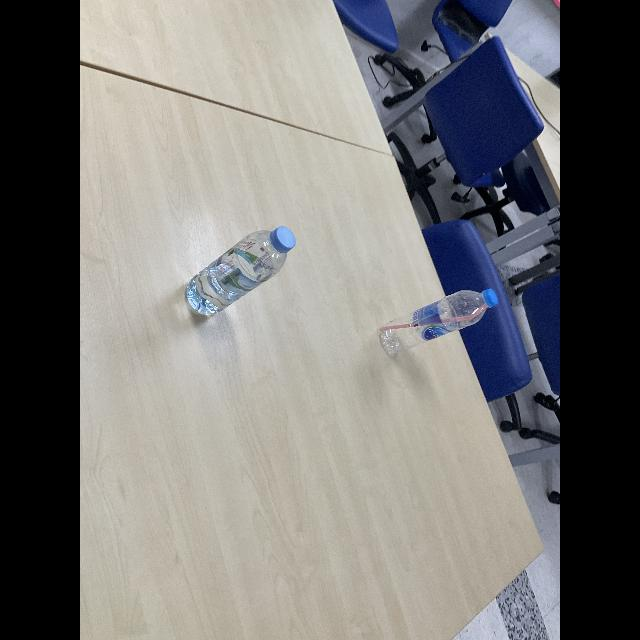plastic_bottle: (185, 222, 297, 322), (377, 288, 498, 366)
plastic_bottle_cap: (270, 226, 296, 254), (481, 288, 497, 308)
straw: (382, 304, 486, 332)
